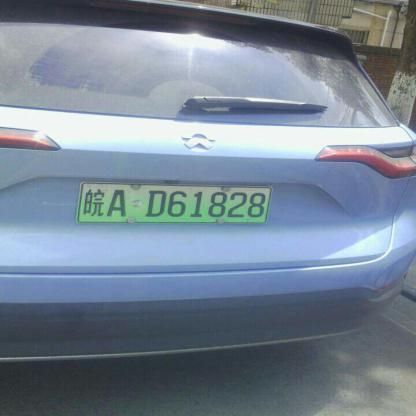lp: (77, 184, 271, 221)
